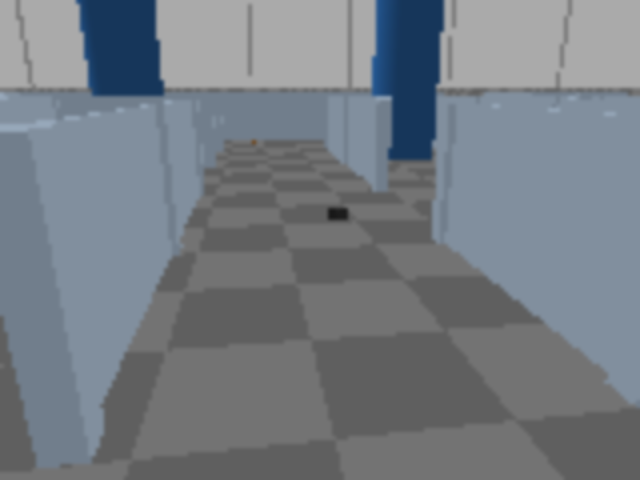puck: (330, 206, 347, 221)
